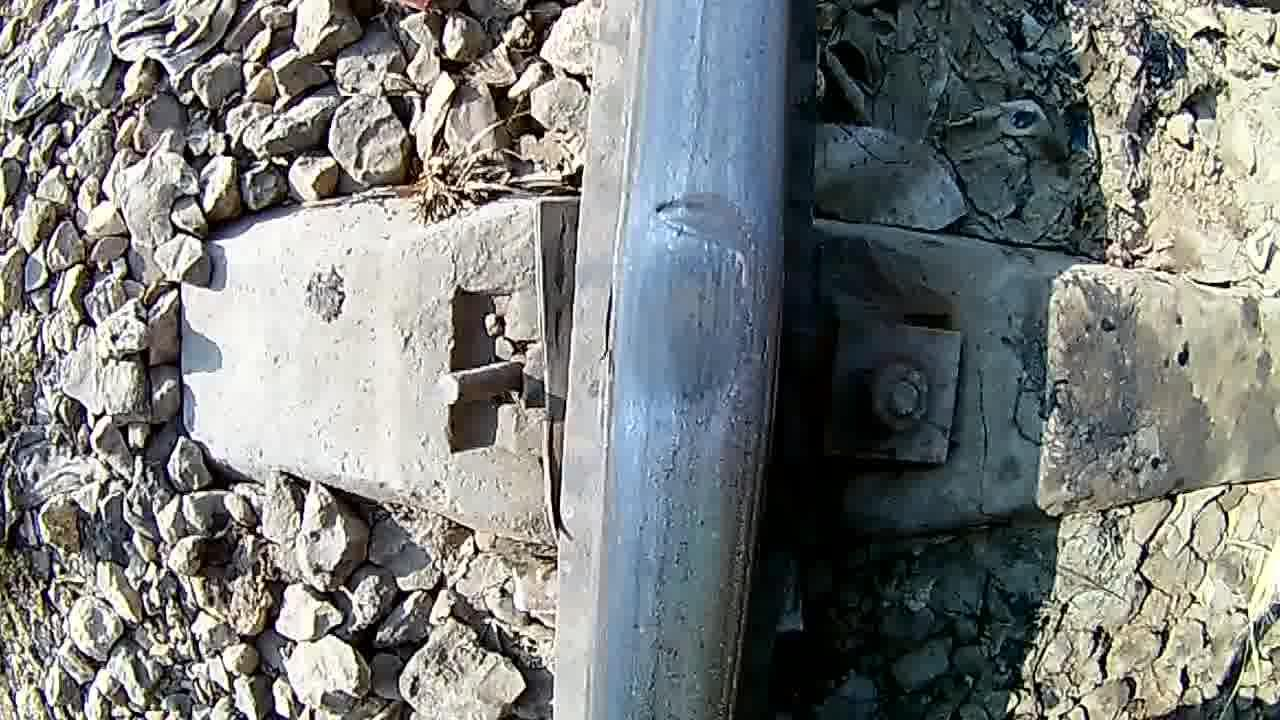bolt_missing: (569, 169, 804, 494)
